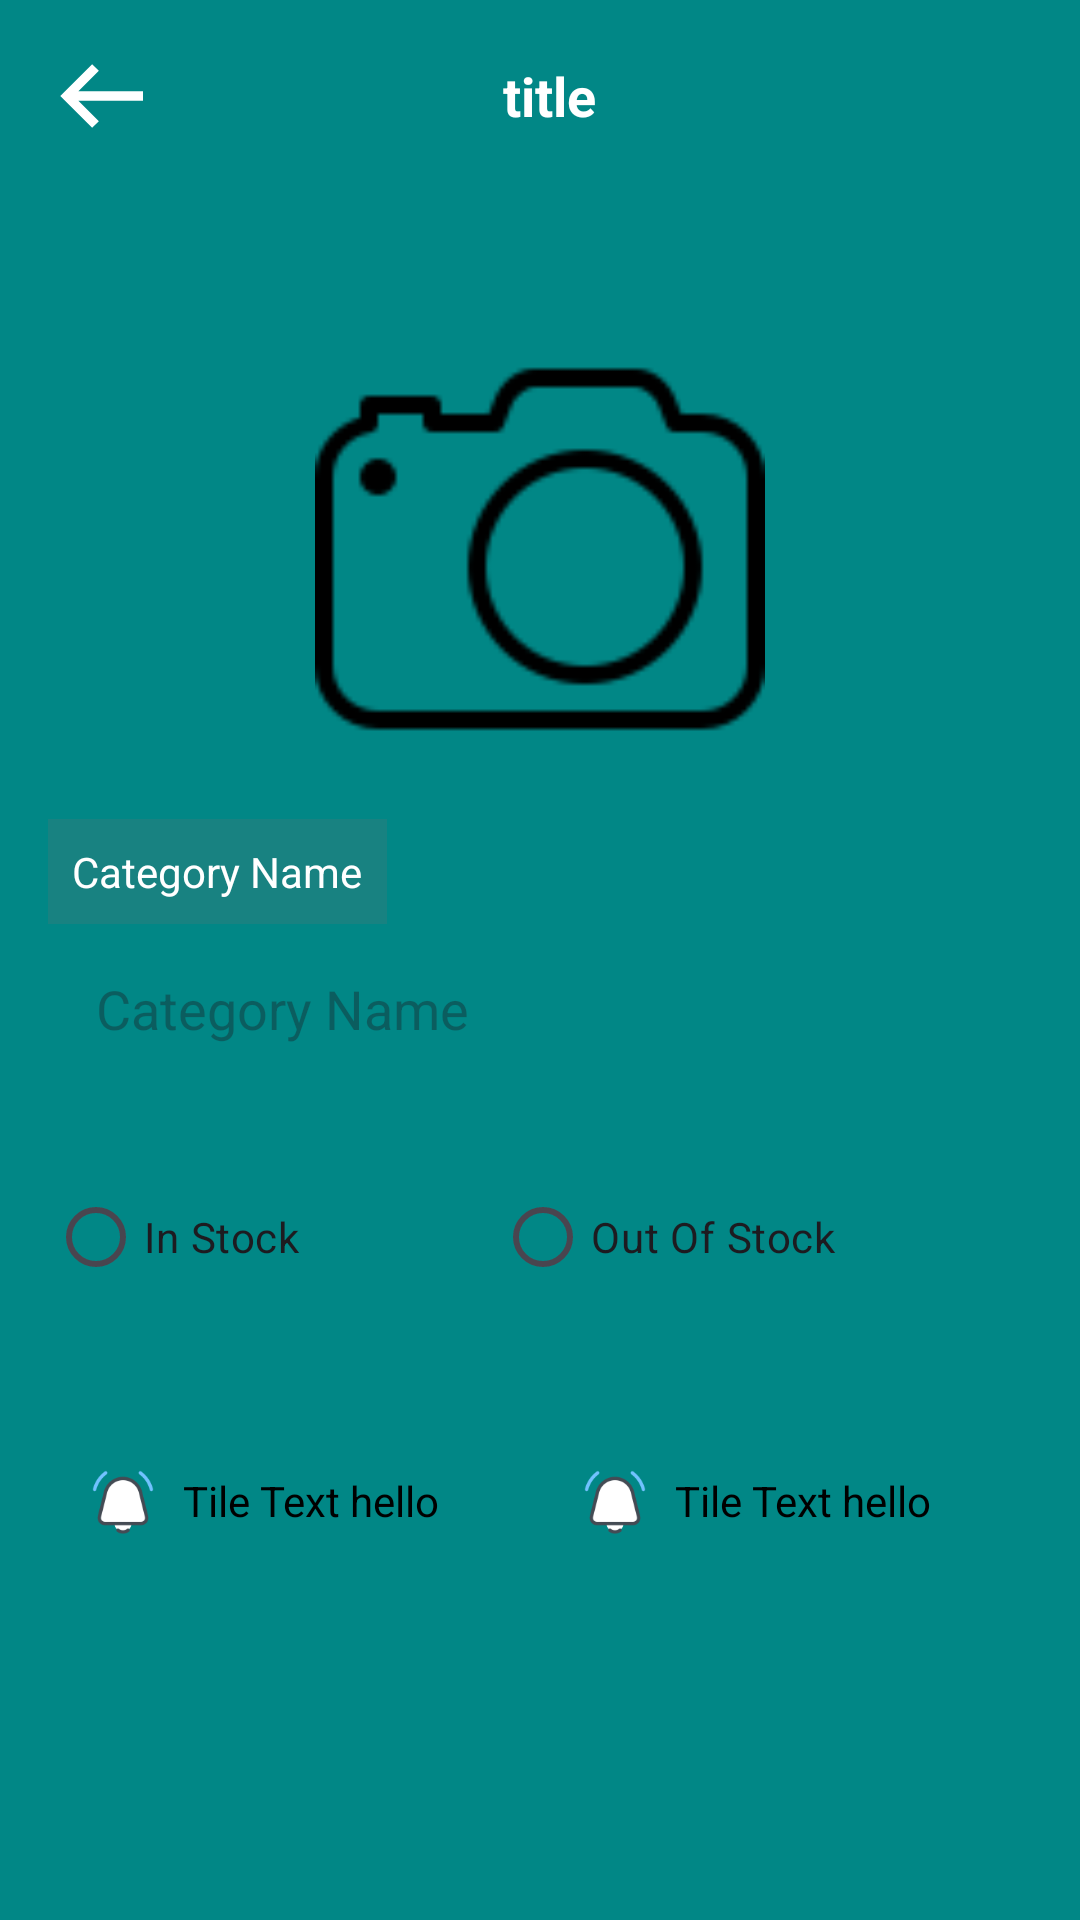

Icon click points for this 1080*1920 phone screenshot, format [x,y]:
back: [101,96]
